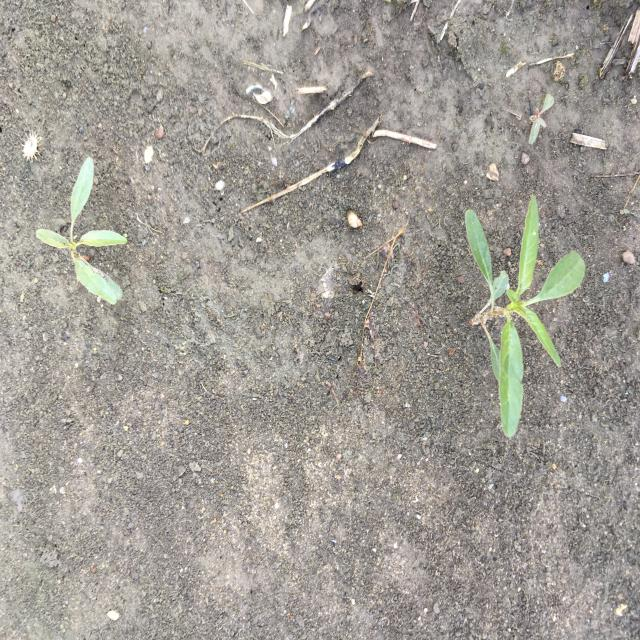Waterhemp: (464, 194, 586, 440), (34, 155, 130, 307)
